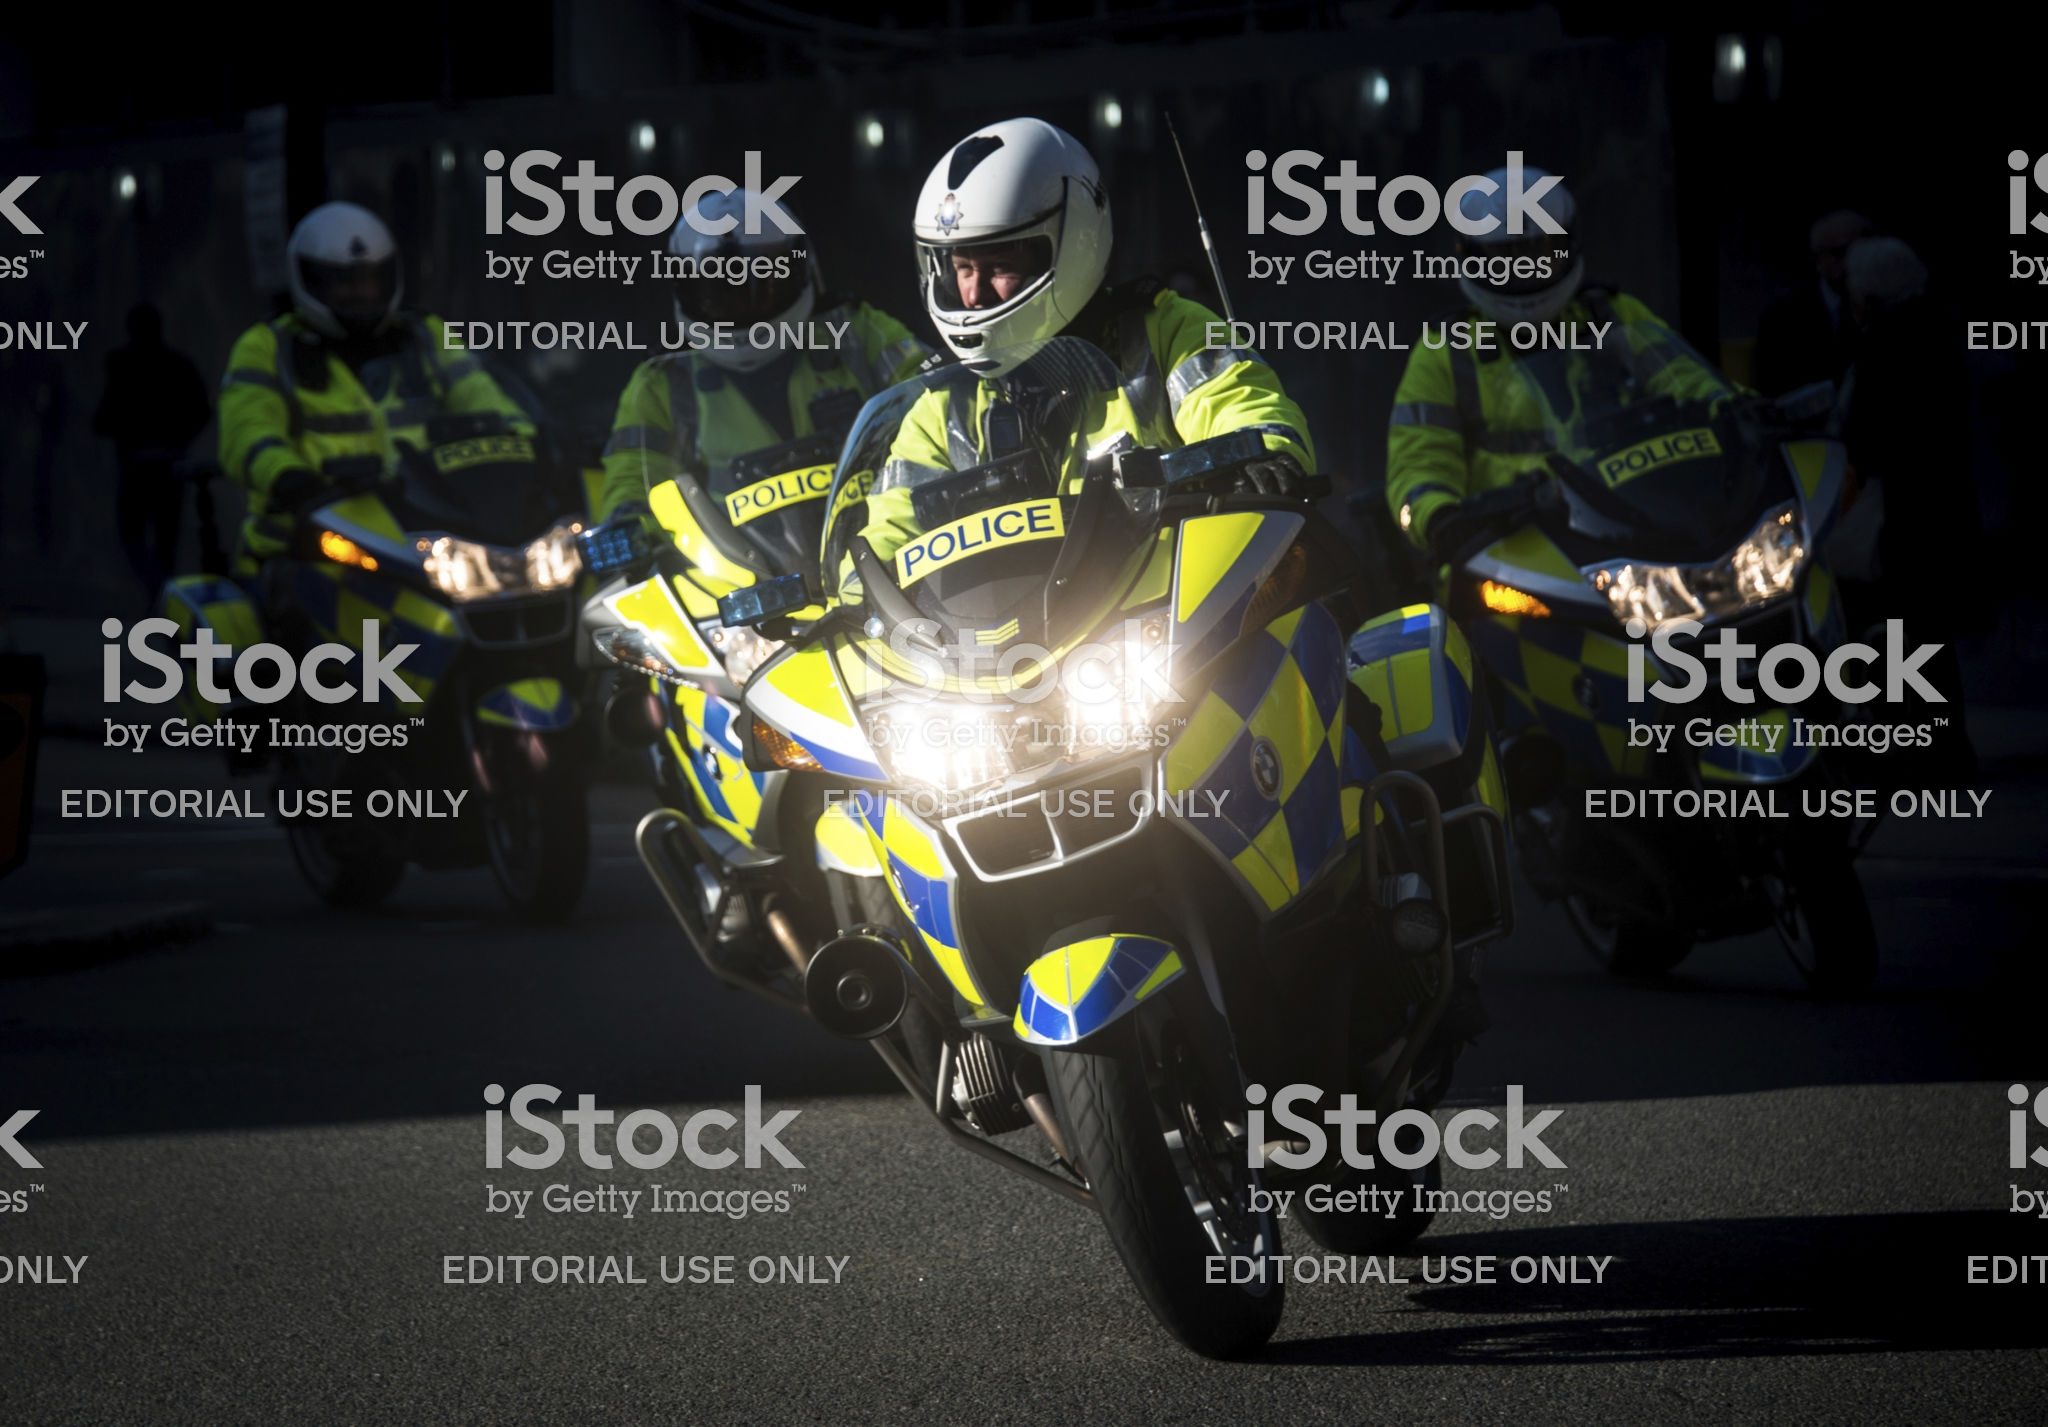helmet: (909, 106, 1119, 386)
